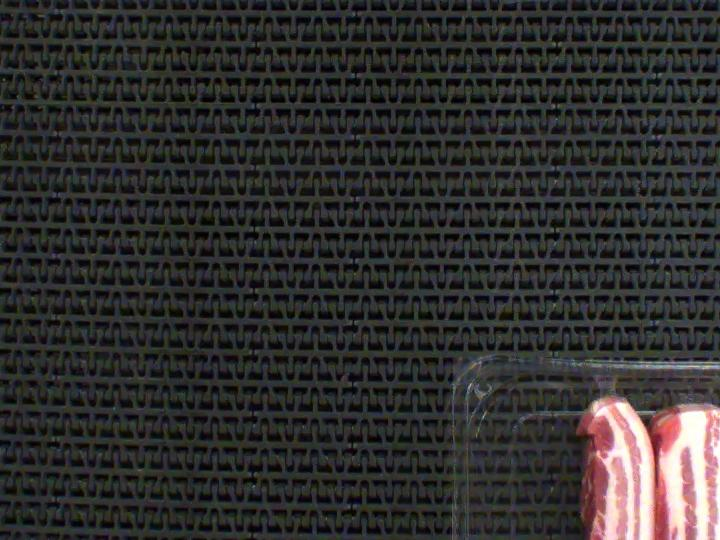packaging-error: (586, 368, 623, 398)
